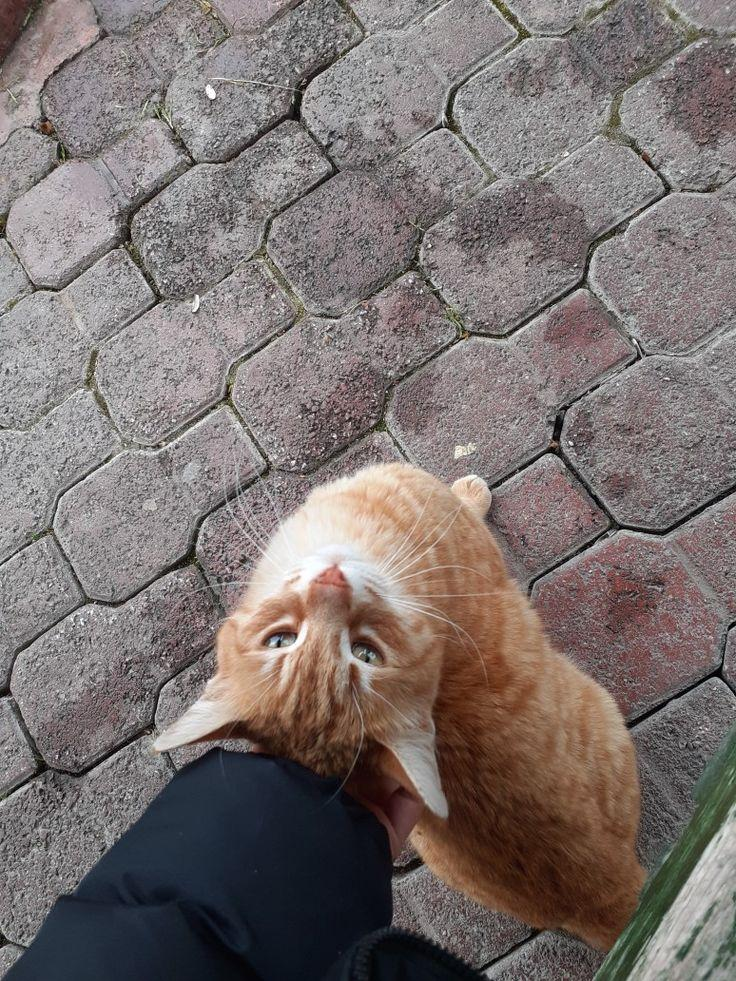kedo: (160, 460, 637, 922)
